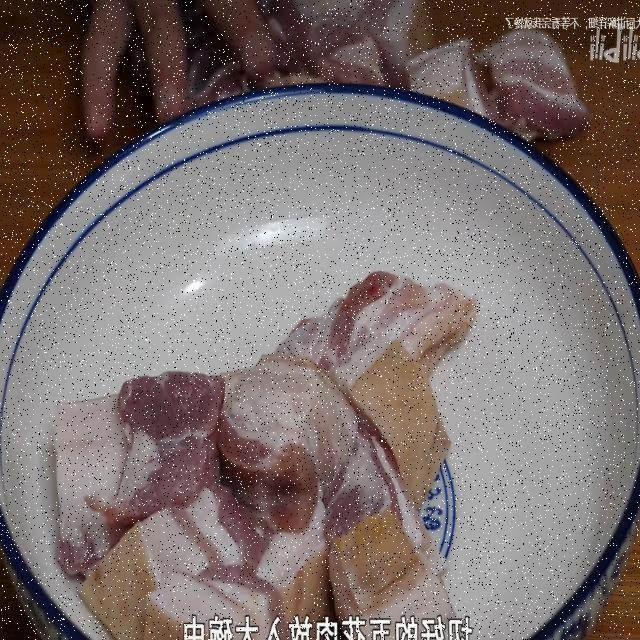pork: (214, 353, 353, 528), (80, 492, 258, 625), (271, 272, 481, 383), (345, 342, 454, 513), (90, 379, 220, 515), (334, 512, 463, 624), (55, 391, 127, 579), (477, 26, 586, 138), (402, 36, 506, 124)
